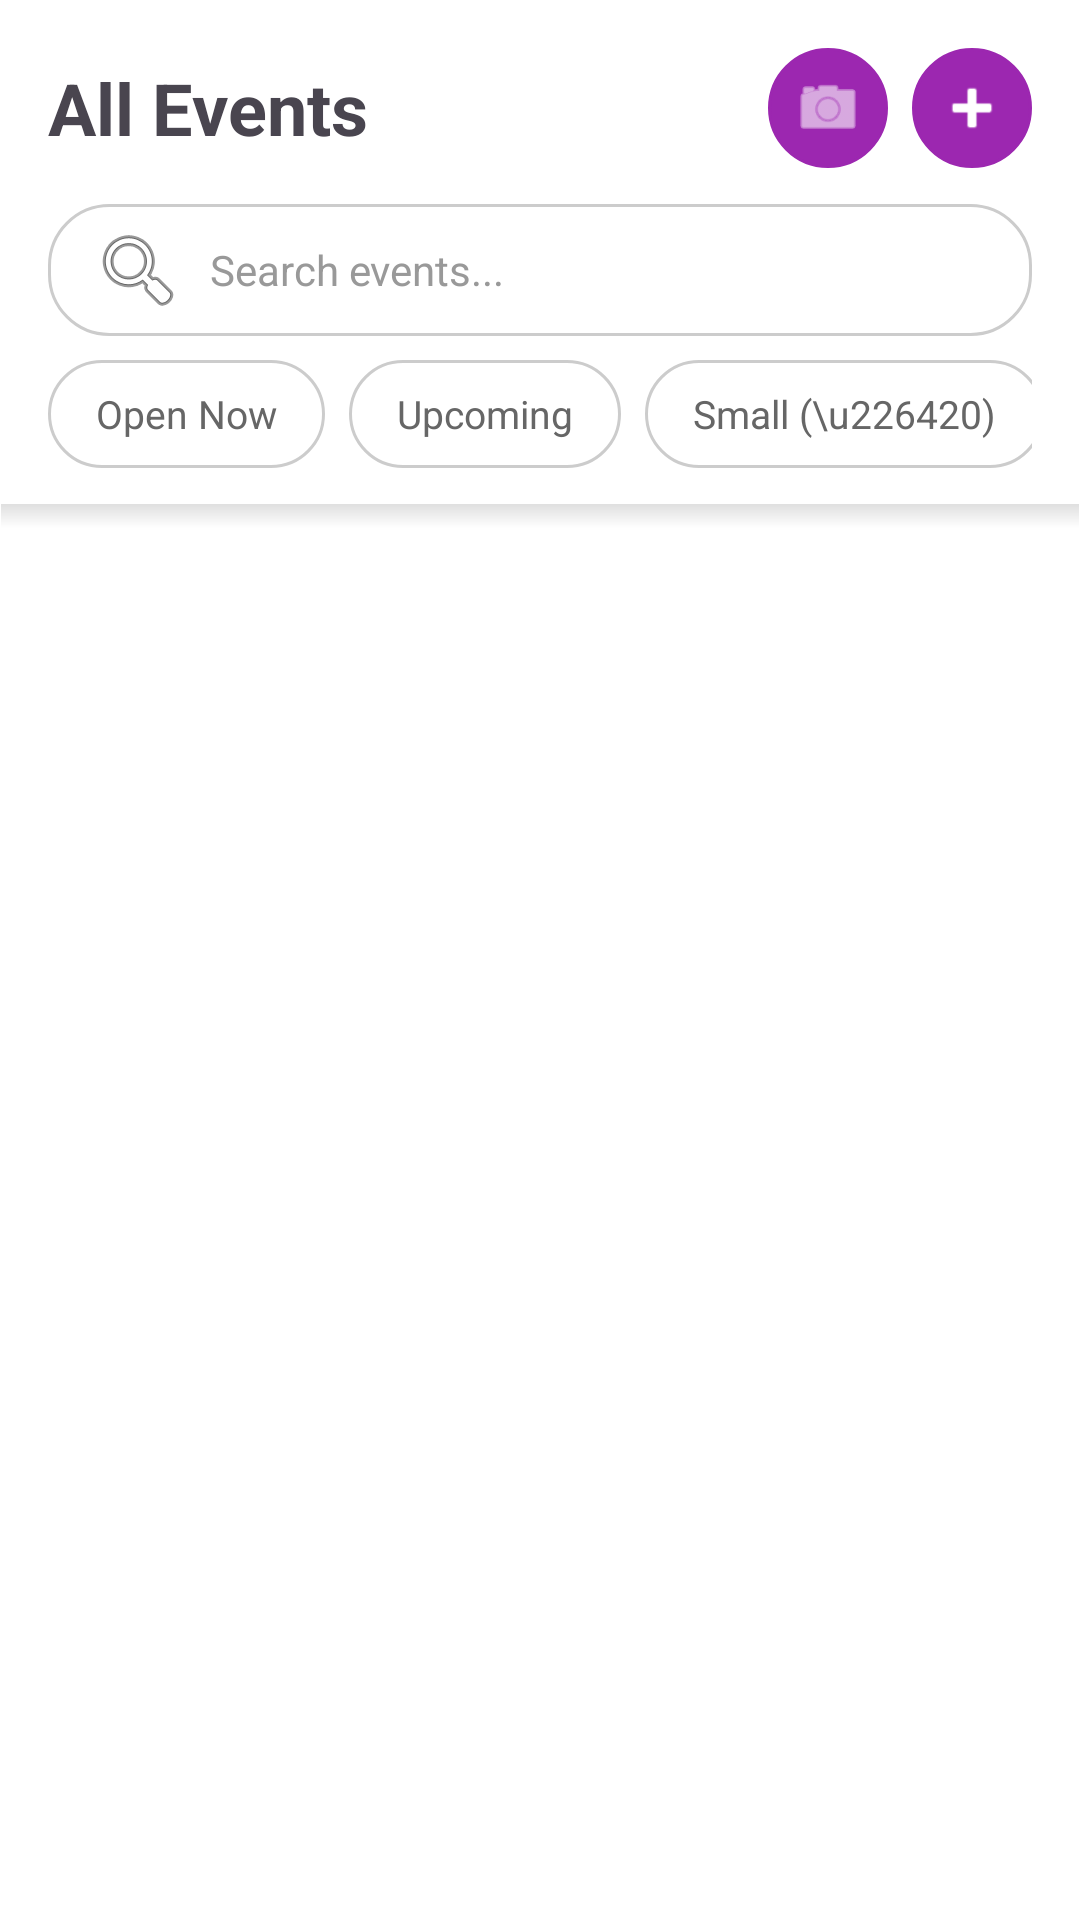

Screen size 1080 x 1920. Icon name, then its box in pixels as (x1, y1, x2, y2):
Create event: (912, 48, 1032, 168)
Scan QR code: (768, 48, 888, 168)
